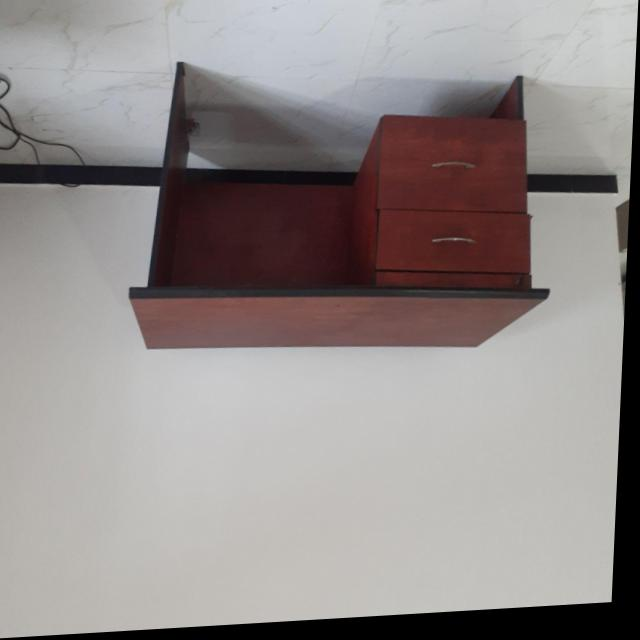Table: (104, 33, 581, 381)
